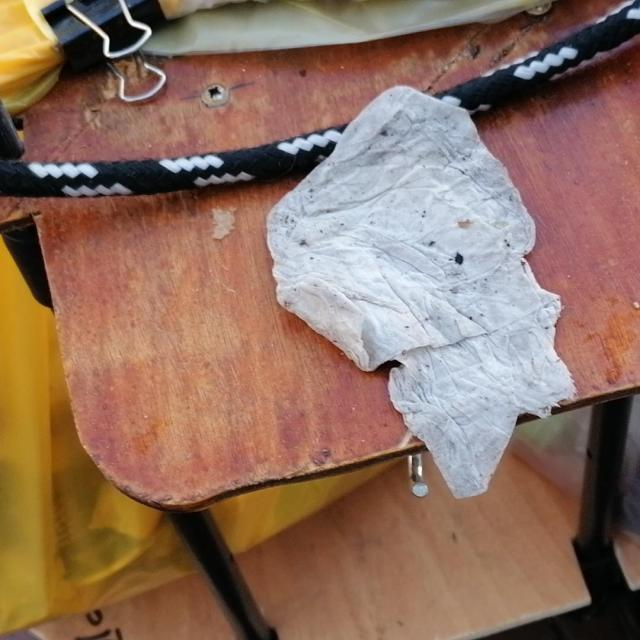Paper: (262, 80, 580, 501)
